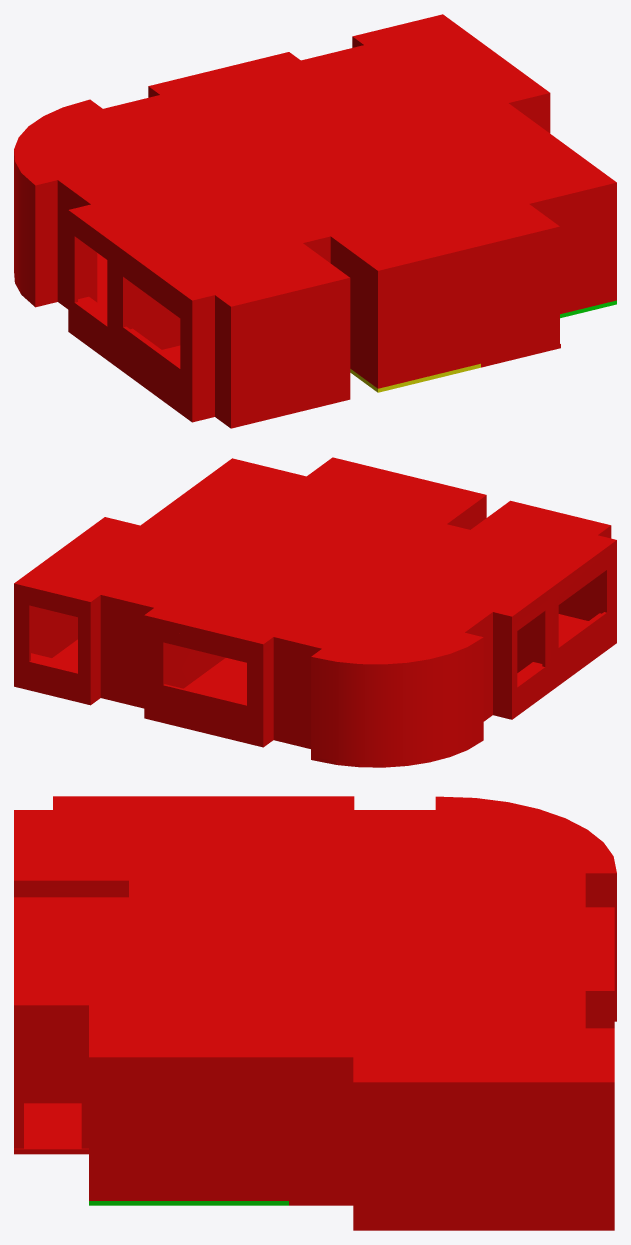
Rendered from val_house_03_grp.fbx.
3 renders of one model, top to bottom at view 1: azimuth 30°, elevation 25°; view 2: azimuth 150°, elevation 25°; view 3: azimuth 270°, elevation 25°, orthographic. The views are drawn at different scales.
Parts seen in each view (by area): view 1: val_house_03_ceiling, val_house_03_walls, val_house_03_floor; view 2: val_house_03_ceiling, val_house_03_walls, val_house_03_floor; view 3: val_house_03_ceiling, val_house_03_walls, val_house_03_floor.
Part boxes in pixels (x1=…): val_house_03_ceiling: x1=14, y1=14, x2=616, y2=310; val_house_03_walls: x1=14, y1=104, x2=616, y2=424; val_house_03_floor: x1=14, y1=253, x2=616, y2=428; val_house_03_ceiling: x1=14, y1=457, x2=616, y2=674; val_house_03_walls: x1=14, y1=510, x2=616, y2=764; val_house_03_floor: x1=14, y1=614, x2=616, y2=767; val_house_03_ceiling: x1=14, y1=796, x2=616, y2=1096; val_house_03_walls: x1=14, y1=885, x2=616, y2=1225; val_house_03_floor: x1=14, y1=1016, x2=616, y2=1230.
Bounding box in the file's own units: 1161 × 281 × 1034.
